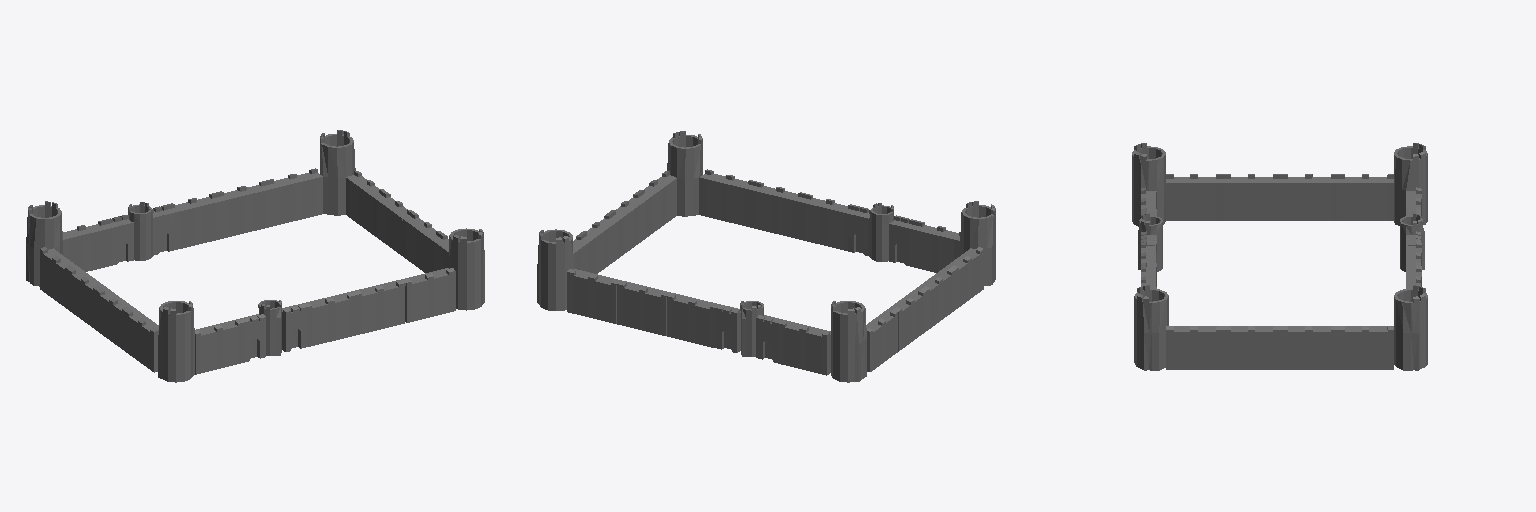
File: OuterWall.obj
The picture shows the model from 3 angles: view 1: azimuth 30°, elevation 25°; view 2: azimuth 150°, elevation 25°; view 3: azimuth 270°, elevation 25°; orthographic projection.
Parts seen in each view (by area): view 1: tower_large_R1; view 2: tower_large_R1; view 3: tower_large_R1.
Boxes of the visible parts, <box> form: tower_large_R1: <box>26,130,484,382</box>; tower_large_R1: <box>537,131,995,382</box>; tower_large_R1: <box>1132,143,1427,370</box>.
Bounding box in the file's own units: 57.34 × 12.3 × 45.63.